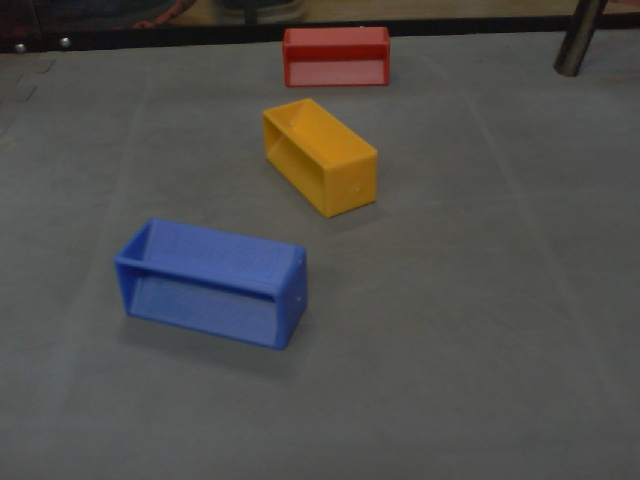BlueSample: (111, 214, 310, 354)
RedSample: (281, 25, 391, 88)
YellowSample: (260, 98, 381, 221)
